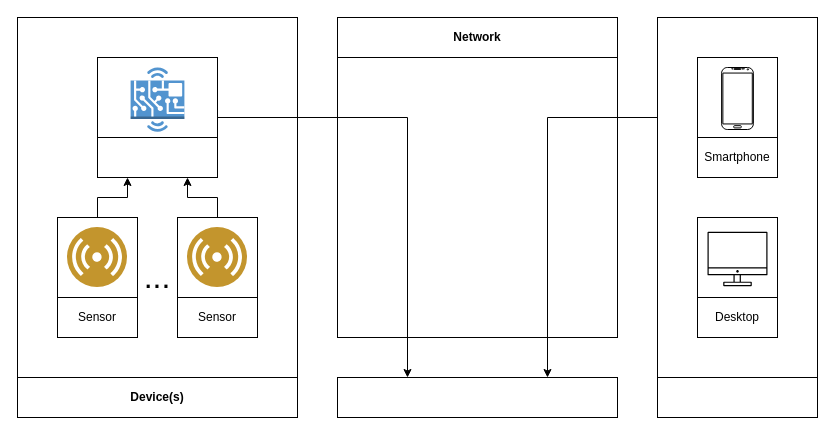
This 835x435 diagram has some shape labels left out. The box of each missing label's shape, as (x1, y1, x2, y2) in pixels:
Data Processing Center: (336, 376, 618, 418)
Microcontroller: (96, 136, 218, 178)
User Interface: (656, 376, 818, 418)
